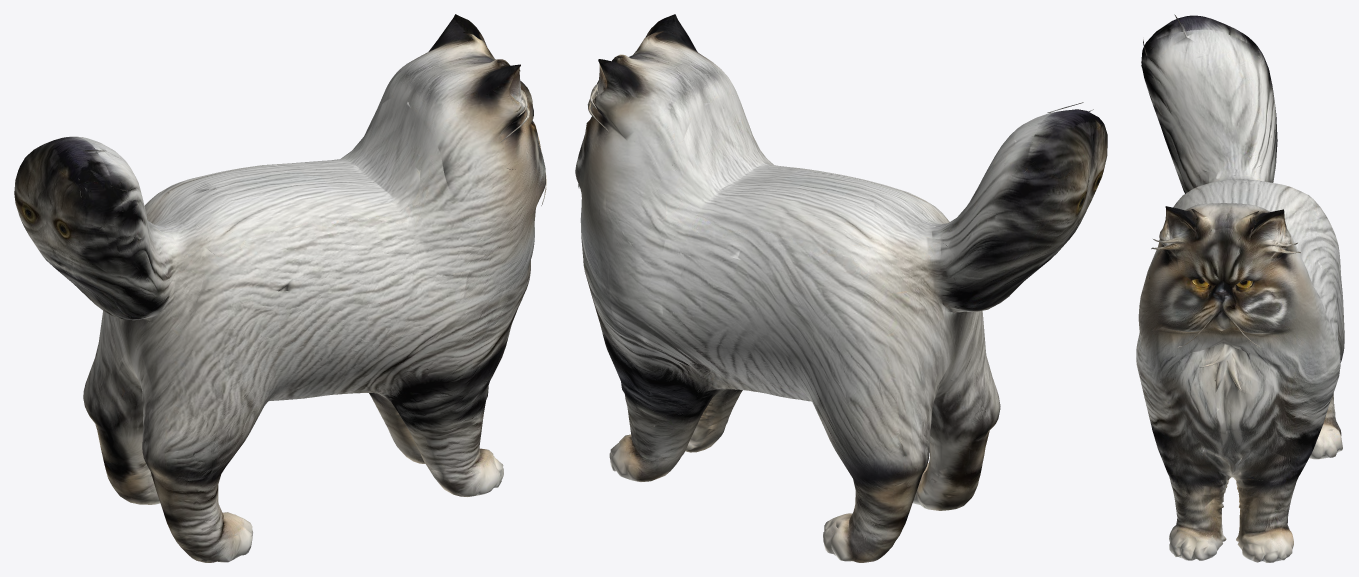
File: COLMEOW2.glb
The picture shows the model from 3 angles, left to right: view 1: azimuth 30°, elevation 25°; view 2: azimuth 150°, elevation 25°; view 3: azimuth 270°, elevation 25°; orthographic projection. The views are drawn at different scales.
Parts seen in each view (by area): view 1: fit; view 2: fit; view 3: fit.
Boxes of the visible parts, x1,y1,x2,y2 form: fit: [14, 14, 546, 562]; fit: [575, 14, 1107, 562]; fit: [1136, 14, 1344, 562].
Size of the model in its own units: 1.2 by 1 by 0.5043.
Materials: 1 (1 with a texture image).
